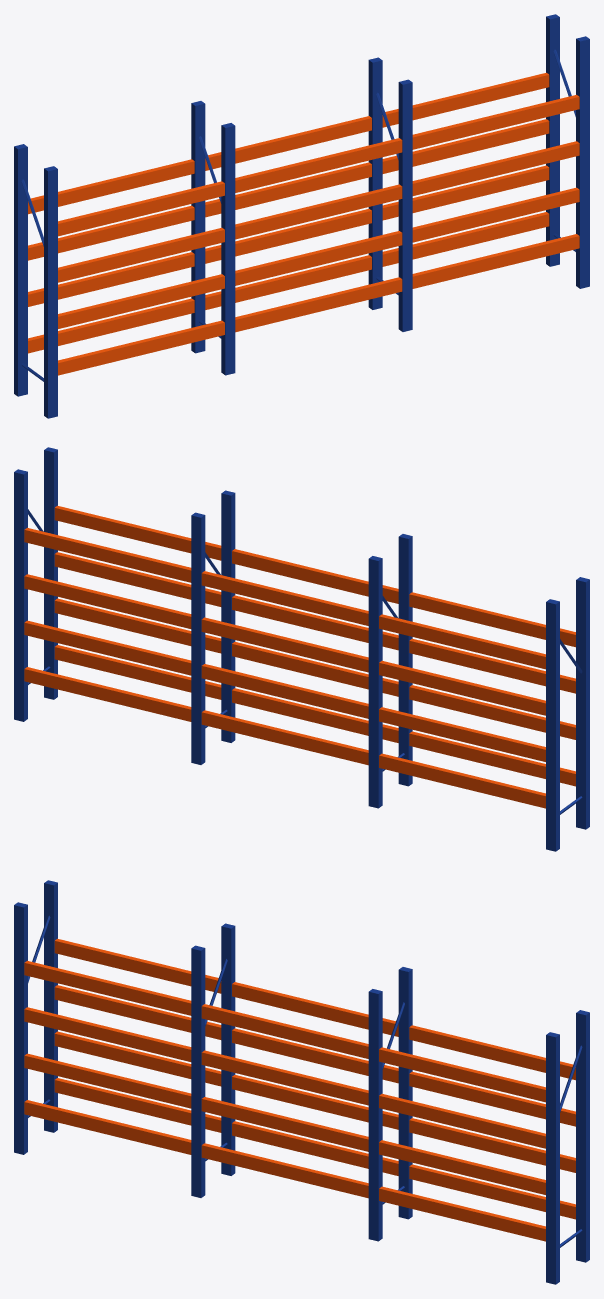
File: industrial.racking.shelving_3.glb
The picture shows the model from 3 angles, top to bottom: view 1: azimuth 30°, elevation 25°; view 2: azimuth 150°, elevation 25°; view 3: azimuth 330°, elevation 25°; orthographic projection.
Parts seen in each view (by area): view 1: main__hivis_orange, main__plastic_blue; view 2: main__hivis_orange, main__plastic_blue; view 3: main__hivis_orange, main__plastic_blue.
Boxes of the visible parts, left/top/right/bottom form: main__hivis_orange: left=28, top=72, right=579, bottom=375; main__plastic_blue: left=14, top=14, right=589, bottom=418; main__hivis_orange: left=24, top=505, right=575, bottom=808; main__plastic_blue: left=14, top=447, right=589, bottom=851; main__hivis_orange: left=24, top=938, right=575, bottom=1241; main__plastic_blue: left=14, top=880, right=589, bottom=1284.
Bounding box in the file's own units: 5.5 × 2.4 × 0.6.
